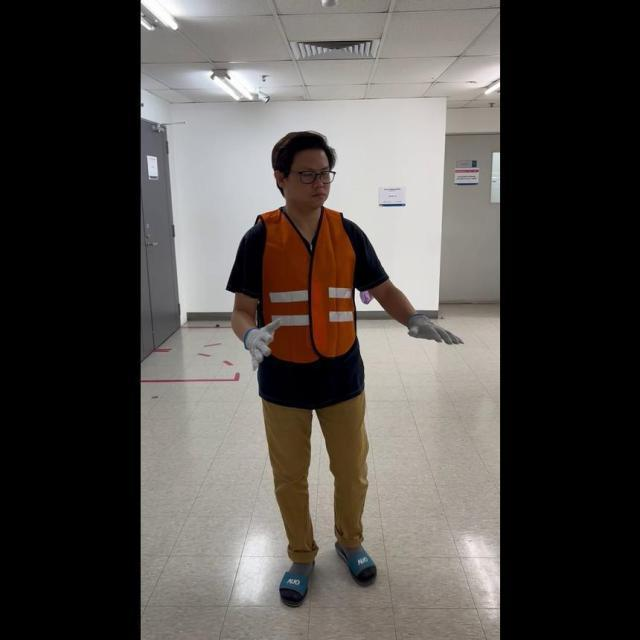gloved_hand: (400, 307, 462, 350), (241, 311, 284, 367)
